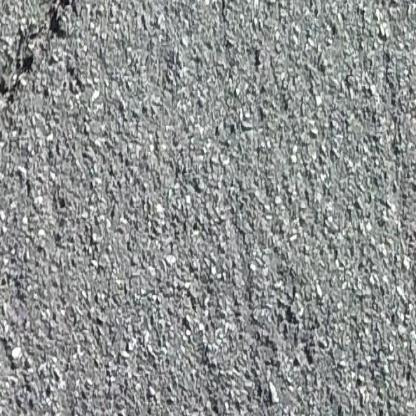Cracks: (0, 0, 81, 133)
